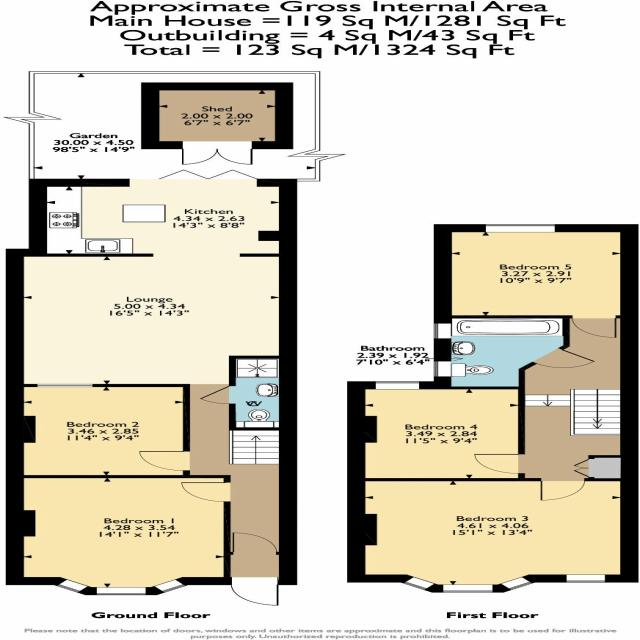DOOR: (530, 347, 596, 369), (229, 577, 279, 606), (569, 315, 621, 339), (136, 450, 191, 471), (538, 478, 588, 501), (179, 481, 231, 503), (471, 453, 525, 474), (230, 532, 279, 555), (198, 384, 236, 404)
FOLDING DOOR: (128, 167, 266, 187)
ROOM: (2, 168, 299, 387), (347, 478, 640, 593), (5, 475, 231, 596), (433, 224, 639, 338), (347, 381, 527, 481), (5, 384, 190, 479)
WINDOW: (483, 224, 557, 233), (151, 578, 188, 594), (497, 576, 534, 592), (54, 578, 91, 593), (401, 576, 437, 591), (438, 584, 496, 593), (92, 587, 148, 595), (373, 381, 422, 390), (563, 574, 608, 583), (433, 322, 452, 339), (433, 360, 452, 377), (36, 384, 94, 388)
